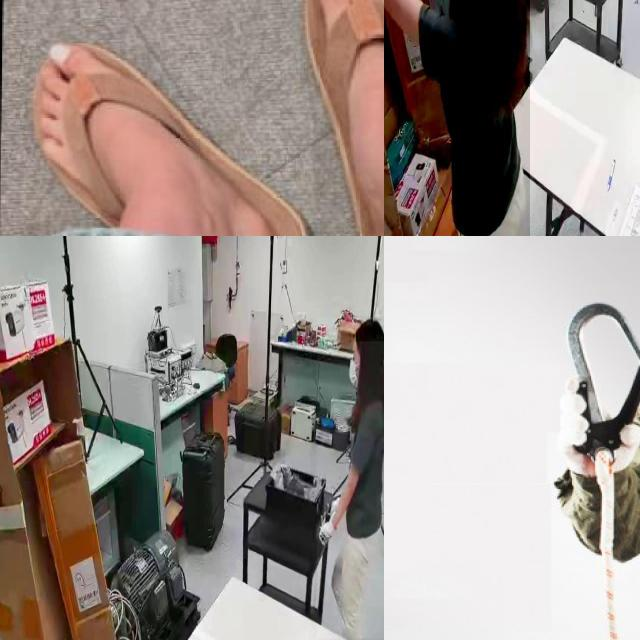Sandals: (13, 34, 310, 236), (279, 0, 384, 236)
face_mask: (348, 343, 362, 388)
hand_glove: (319, 516, 338, 552), (329, 492, 343, 518)
head_nohelmet: (353, 316, 384, 342)
person: (384, 0, 530, 236), (317, 317, 384, 639)
